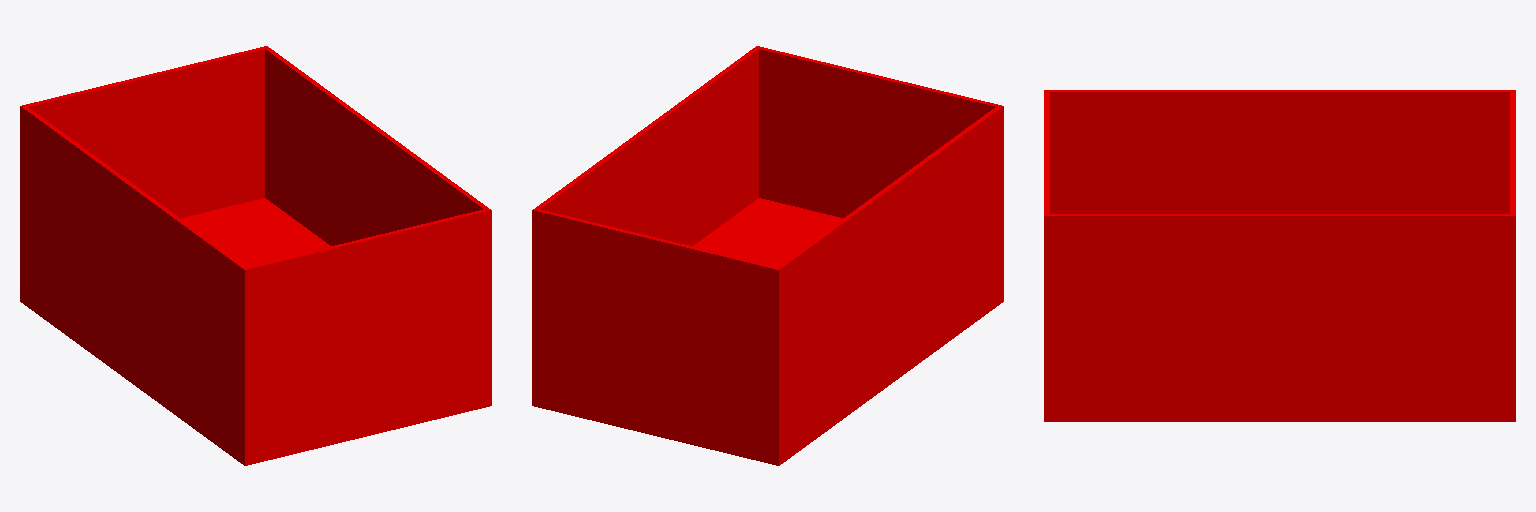
The robot description file, URDF, robot "box":
<robot name="box">

  
  
  <link name="world">
    <inertial>
      <origin xyz="0.0 0.0 0.0" rpy="0 0 0" />
      <mass value="0.6"/>
      <inertia ixx="0.001" ixy="0.0" ixz="0.0"
	       iyy="0.001" iyz="0.0"
	       izz="0.001" />
    </inertial>
    <visual>
      <origin xyz="0.605 0 0.245" rpy="0 0 0" />
      <geometry>
        <box size="0.01 0.8 0.3"/>
      </geometry>
      <material name="red">
        <color rgba="1 0 0 1"/>
      </material>
    </visual>
    <visual>
      <origin xyz="1.115 0 0.245" rpy="0 0 0" />
      <geometry>
        <box size="0.01 0.8 0.3"/>
      </geometry>
      <material name="red">
        <color rgba="1 0 0 1"/>
      </material>
    </visual>
    <visual>
      <origin xyz="0.86 0.405 0.245" rpy="0 0 0" />
      <geometry>
        <box size="0.52 0.01 0.3"/>
      </geometry>
      <material name="red">
        <color rgba="1 0 0 1"/>
      </material>
    </visual>
    <visual>
      <origin xyz="0.86 -0.405 0.245" rpy="0 0 0" />
      <geometry>
        <box size="0.52 0.01 0.3"/>
      </geometry>
      <material name="red">
        <color rgba="1 0 0 1"/>
      </material>
    </visual>
    <visual>
      <origin xyz="0.86 0 0.0475" rpy="0 0 0" />
      <geometry>
        <box size="0.52 0.82 0.095"/>
      </geometry>
      <material name="red">
        <color rgba="1 0 0 1"/>
      </material>
    </visual>
    <collision>
      <origin xyz="0.605 0 0.245" rpy="0 0 0" />
      <geometry>
        <box size="0.01 0.8 0.3"/>
      </geometry>
    </collision>
    <collision>
      <origin xyz="1.115 0 0.245" rpy="0 0 0" />
      <geometry>
        <box size="0.01 0.8 0.3"/>
      </geometry>
    </collision>
    <collision>
      <origin xyz="0.86 0.405 0.245" rpy="0 0 0" />
      <geometry>
        <box size="0.52 0.01 0.3"/>
      </geometry>
    </collision>
    <collision>
      <origin xyz="0.86 -0.405 0.245" rpy="0 0 0" />
      <geometry>
        <box size="0.52 0.01 0.3"/>
      </geometry>
    </collision>
    <collision>
      <origin xyz="0.86 0 0.0475" rpy="0 0 0" />
      <geometry>
        <box size="0.52 0.82 0.095"/>
      </geometry>
    </collision>
  </link>
</robot>

--- What the picture shows (computed from the rendered views, not written in the file) ---
3 views of the same robot in one strip: view 1: azimuth 30°, elevation 25°; view 2: azimuth 150°, elevation 25°; view 3: azimuth 270°, elevation 25° (orthographic).
Robot: box — 1 links, 0 joints (none); root link world; default pose: every joint at zero.
Links seen in each view (by area): view 1: world; view 2: world; view 3: world.
Link boxes in pixels (x1,y1,x2,y2): world: (20,46,491,465); world: (532,46,1003,465); world: (1044,90,1515,421).
Bounding box of the posed robot: 0.52 × 0.82 × 0.395 m (x, y, z).
Geometry: primitives only (box / cylinder / sphere), no mesh files.